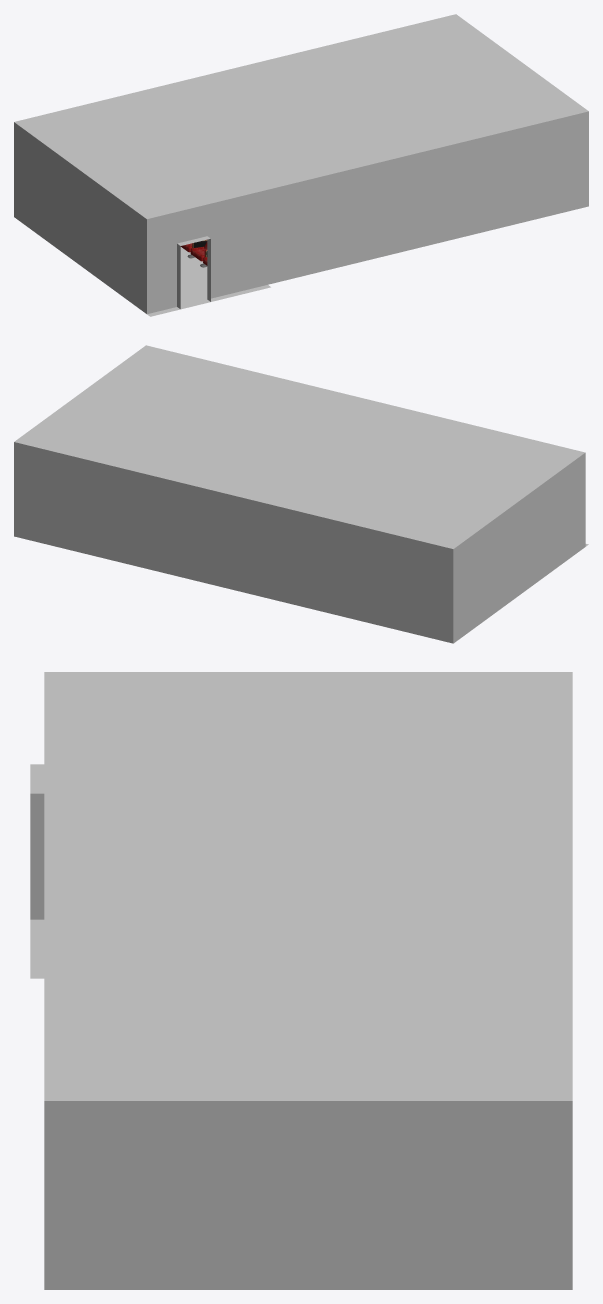
File: Salle3.fbx
The picture shows the model from 3 angles, top to bottom: view 1: azimuth 30°, elevation 25°; view 2: azimuth 150°, elevation 25°; view 3: azimuth 270°, elevation 25°; orthographic projection. The views are drawn at different scales.
Parts seen in each view (by area): view 1: Salle3; view 2: Salle3; view 3: Salle3.
Boxes of the visible parts, x1,y1,x2,y2 form: Salle3: [14, 14, 588, 316]; Salle3: [14, 345, 588, 643]; Salle3: [30, 672, 572, 1289].
Size of the model in its own units: 14.6 by 3 by 7.8.
